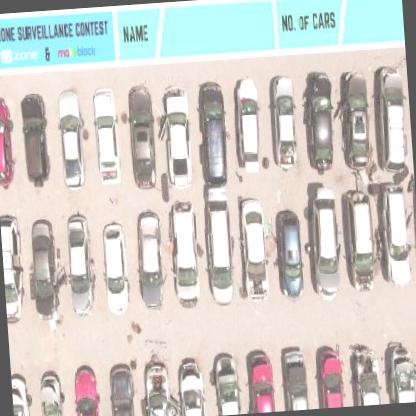car: (200, 184, 234, 300), (300, 72, 337, 172), (339, 70, 373, 174), (311, 190, 342, 300), (380, 183, 413, 286), (238, 198, 270, 304), (171, 203, 202, 312), (30, 218, 62, 320), (67, 211, 98, 316), (128, 83, 158, 191), (346, 191, 376, 294), (199, 82, 229, 183), (57, 91, 88, 188), (380, 70, 409, 172), (165, 88, 194, 190), (0, 211, 26, 324), (135, 212, 165, 308), (20, 94, 51, 184), (270, 77, 300, 169), (276, 210, 306, 302), (102, 223, 131, 315), (94, 92, 122, 186), (238, 78, 264, 172), (349, 344, 384, 406), (314, 345, 348, 408), (210, 353, 244, 415), (280, 348, 312, 410), (246, 350, 277, 412), (384, 342, 415, 404), (0, 96, 19, 192), (177, 359, 209, 415), (142, 363, 174, 415), (107, 364, 138, 415), (74, 366, 104, 415), (38, 373, 67, 415), (11, 376, 33, 415)
